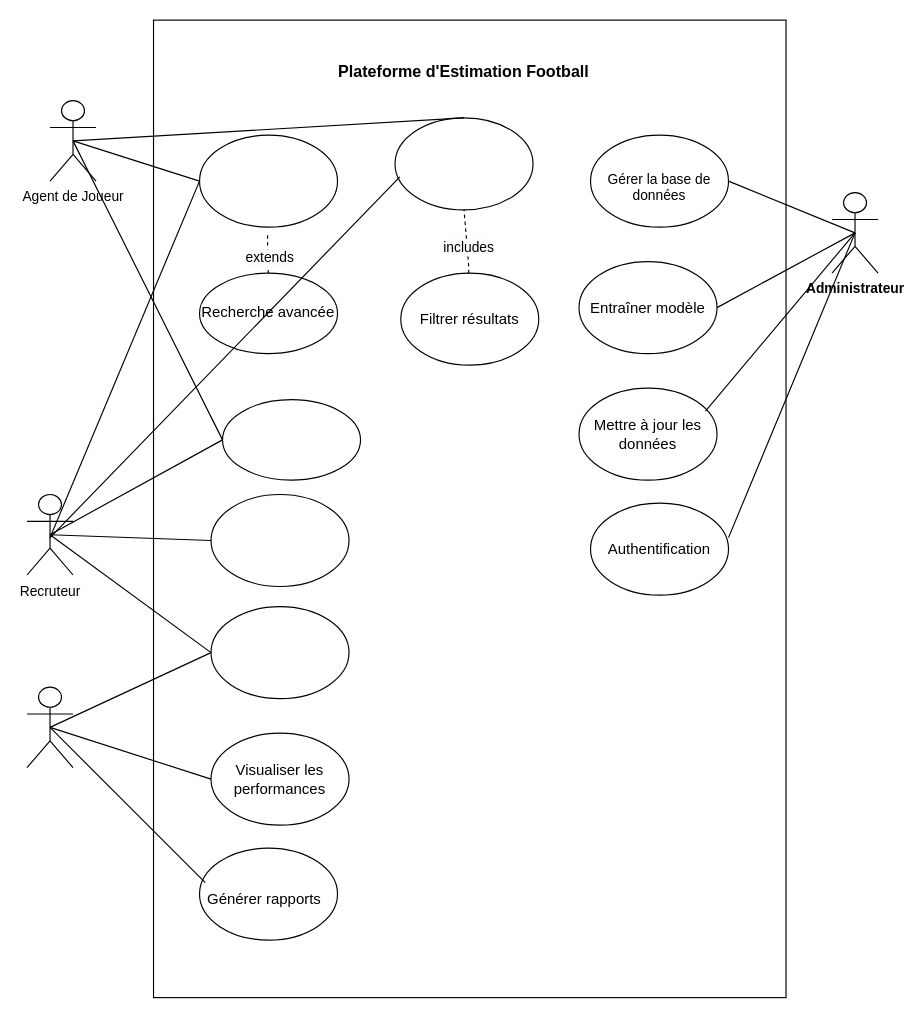
Image size: 923x1018. Some labels were removed from this diagram. The box of each missing label's shape, as (x1, y1, x2, y2) in pixels:
Analyste: (26, 686, 73, 768)
Comparer joueurs: (210, 605, 349, 699)
Consulter ficher: (394, 117, 533, 210)
Estimer valeur: (221, 398, 361, 480)
Rechercher joueur: (198, 134, 338, 227)
Recommander joueurs: (210, 493, 349, 586)
